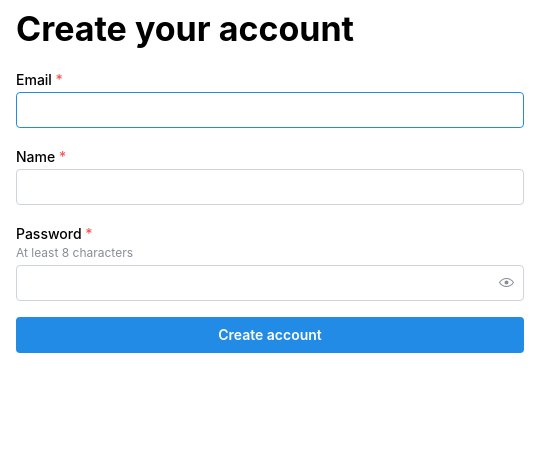
Test case: RegistrationScreen › shows the backend-provided reason when the invite is rejected
Type "alice@example.com" into the field labelled "Email *" at (270, 110), box [16,92,524,128]
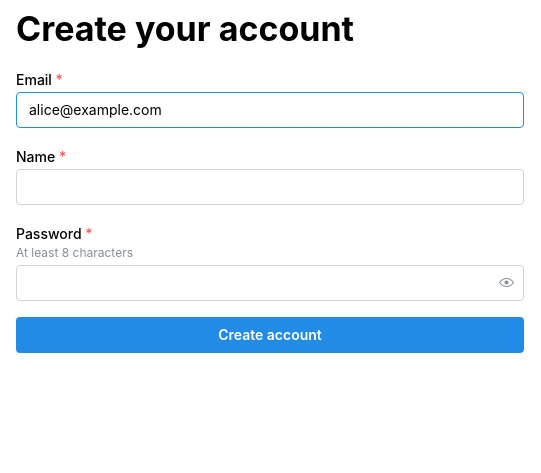
Type "Alice" into the field labelled "Name *" at (270, 187), box [16,169,524,205]
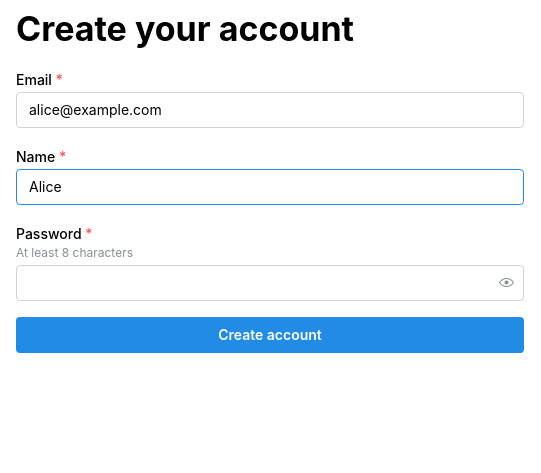
Type "a-good-password" into the password field labelled "Password *" at (270, 283), box [17,266,523,300]
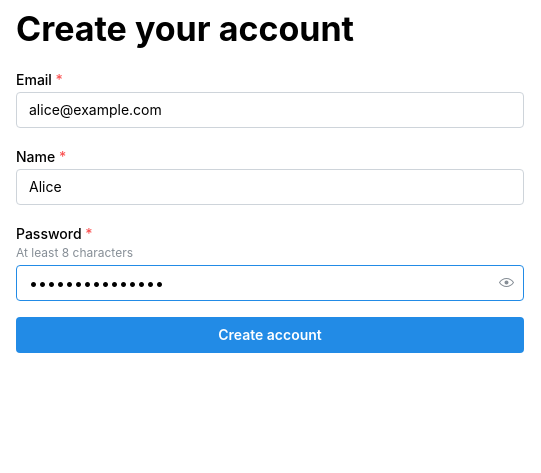
Click the button "Create account" at (270, 335), box [16,317,524,353]
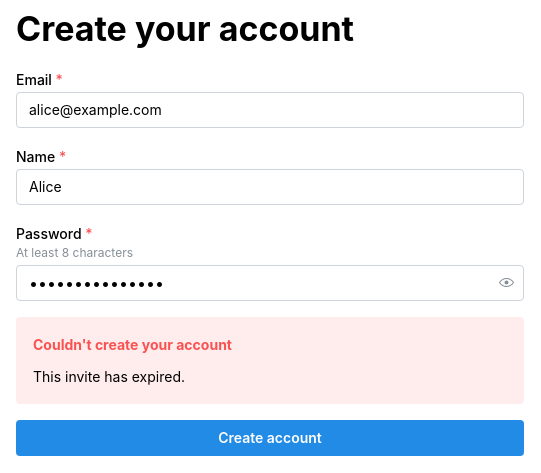
expect the text "This invite has expired." is shown: met, box [33,368,185,385]
